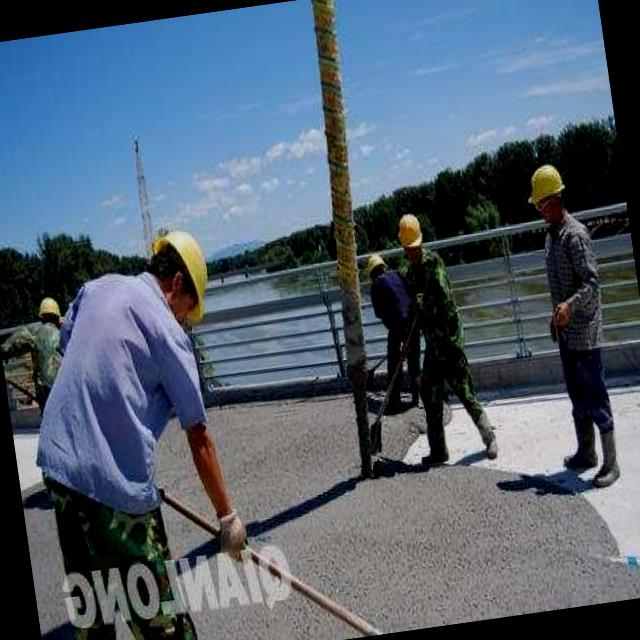helmet: (146, 221, 220, 330), (522, 160, 568, 207), (394, 212, 426, 256)
no-vest: (28, 304, 221, 507), (539, 216, 603, 353), (406, 251, 462, 361)
